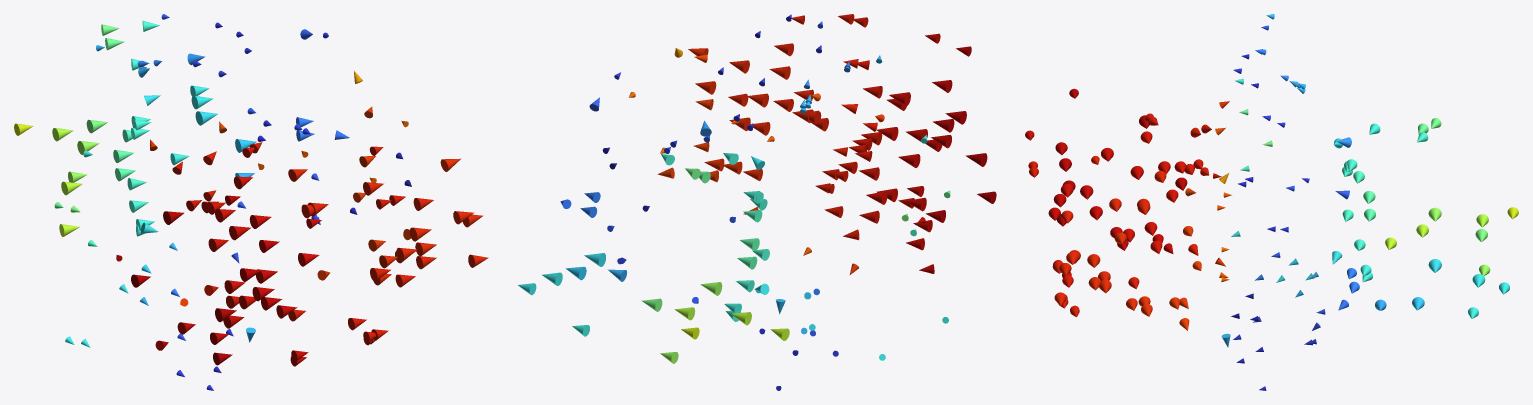
Rendered from LineasCorrienteH2-O2_mh2-2.70_V-0.8.glb.
3 renders of one model, left to right at view 1: azimuth 30°, elevation 25°; view 2: azimuth 150°, elevation 25°; view 3: azimuth 270°, elevation 25°, orthographic. The views are drawn at different scales.
Bounding box in the file's own units: 0.000914 × 0.000958 × 0.00124.
Materials: 2 (2 with a texture image).
